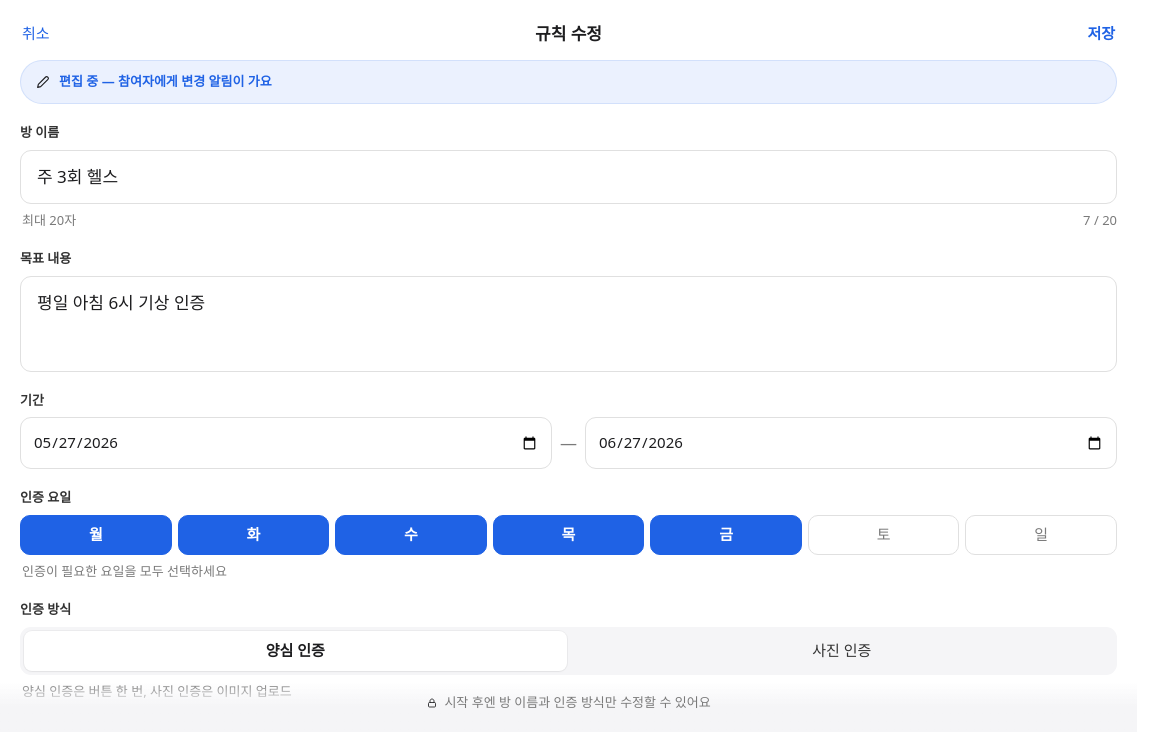
EditRoomForm › 필수값을 비우면 저장이 비활성된다
Expected: the button "저장" is enabled, left=1073, top=15, right=1129, bottom=53
Step 1. Clear the field labelled "방 이름" → (568, 177), box left=20, top=150, right=1117, bottom=204
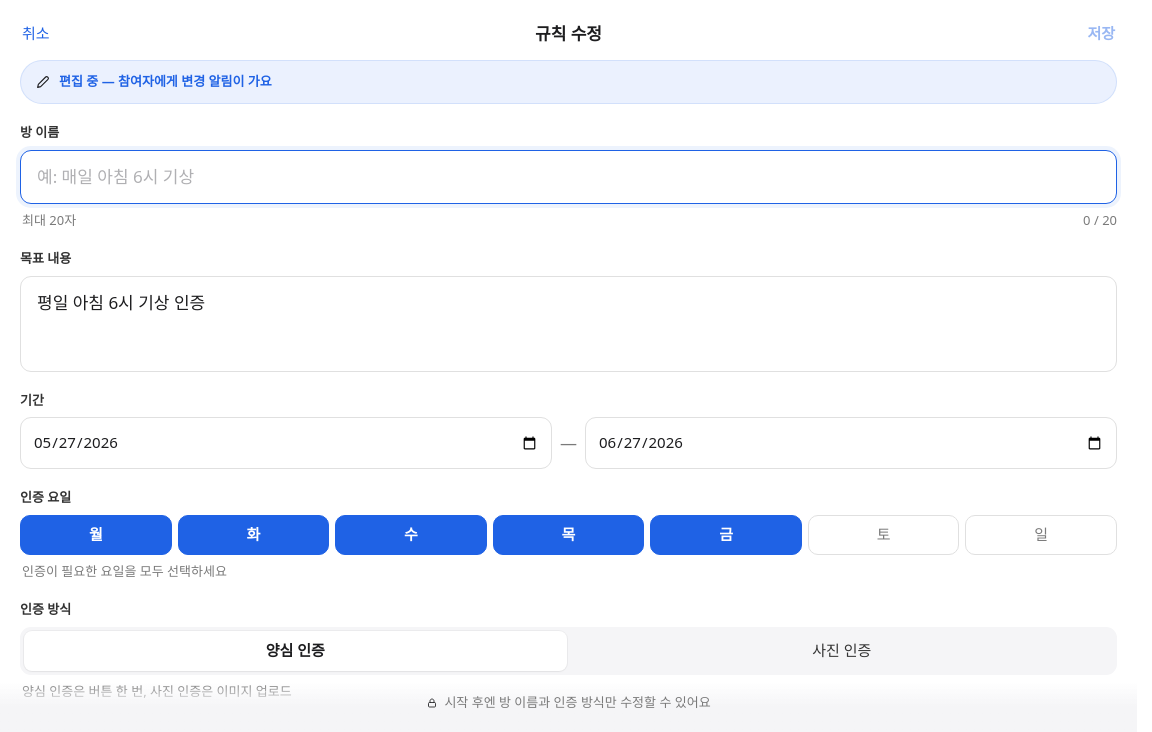
Now the button "저장" is disabled, box left=1073, top=15, right=1129, bottom=53
